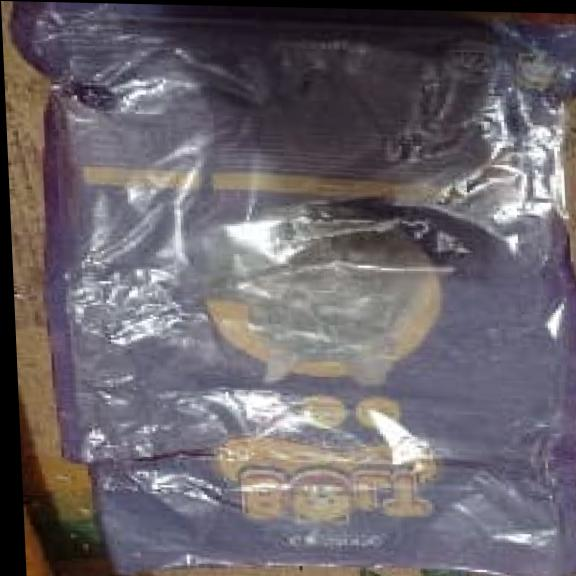Plastik: (15, 2, 576, 576)
